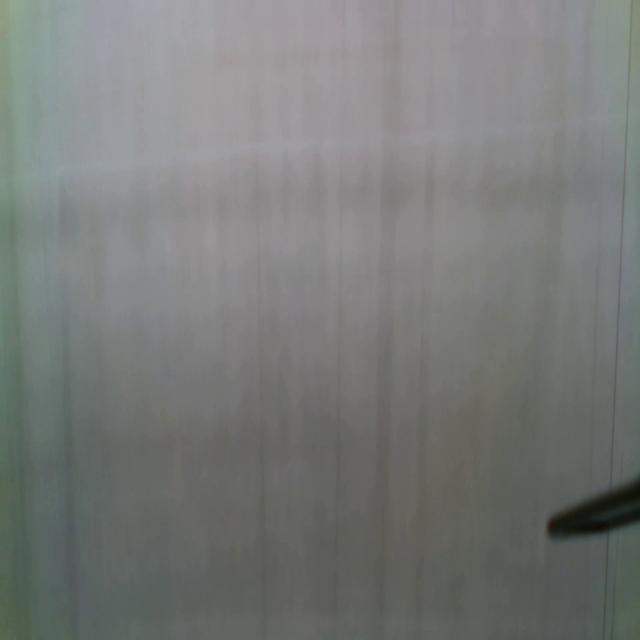color bleeding: (0, 140, 640, 250)
crease: (607, 0, 635, 481), (332, 0, 347, 635), (254, 156, 266, 640), (601, 534, 611, 640)
